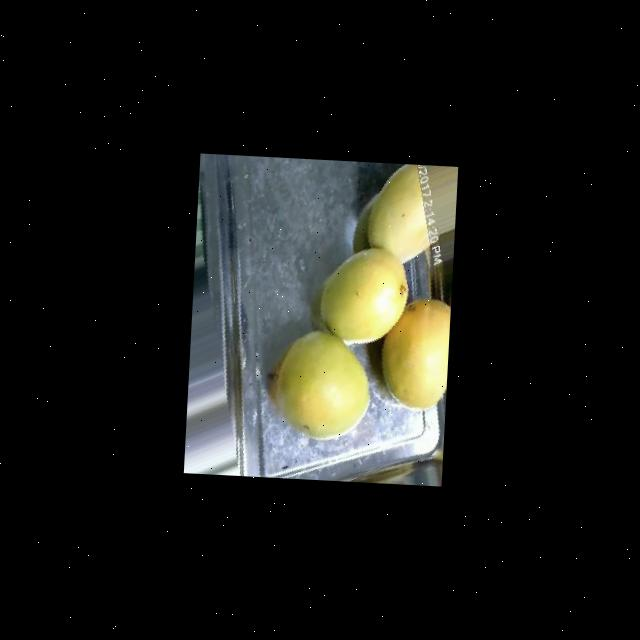Mango: (266, 328, 374, 442), (317, 244, 411, 348), (378, 296, 451, 411), (364, 162, 434, 266)
